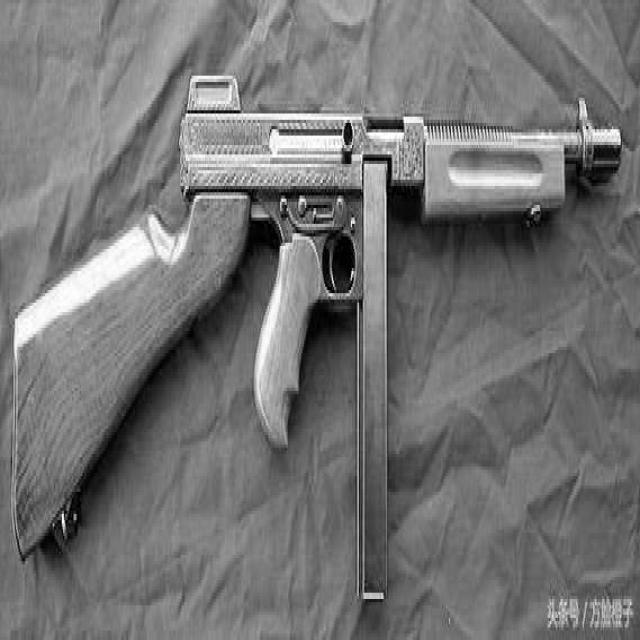gun: (10, 69, 622, 599)
